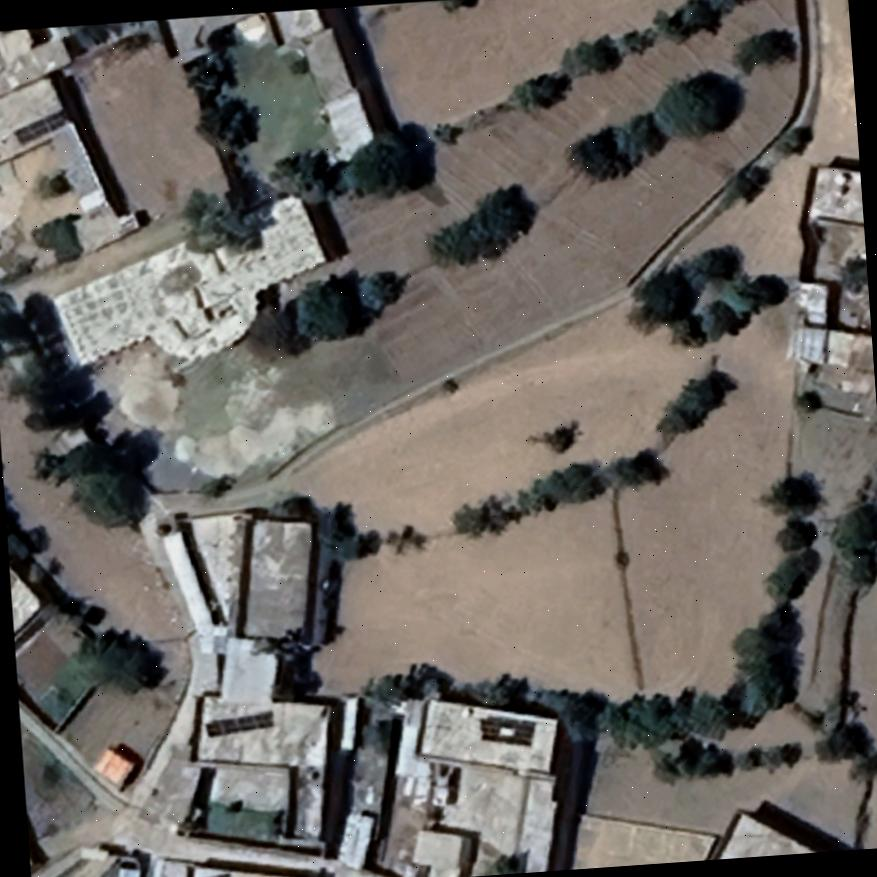Solarpanel: (472, 706, 541, 752), (7, 104, 73, 146), (201, 707, 278, 738), (190, 869, 234, 877)
